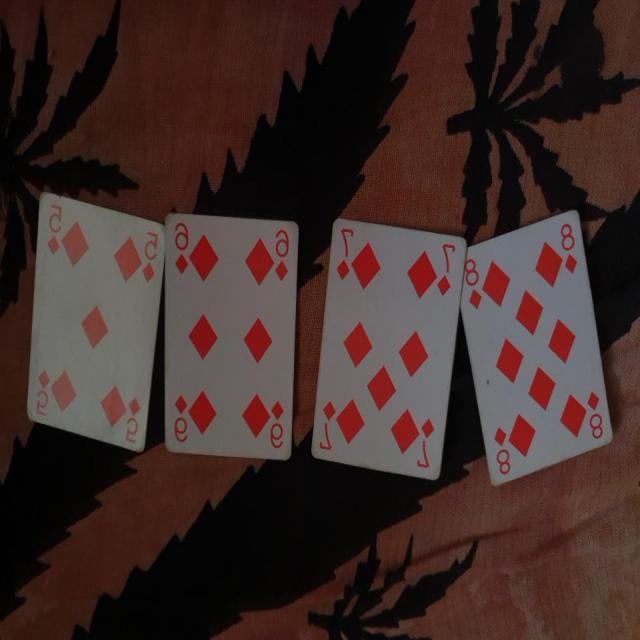5 of diamonds: (23, 186, 166, 462)
6 of diamonds: (164, 215, 302, 466)
7 of diamonds: (311, 216, 468, 486)
8 of diamonds: (462, 206, 615, 487)
